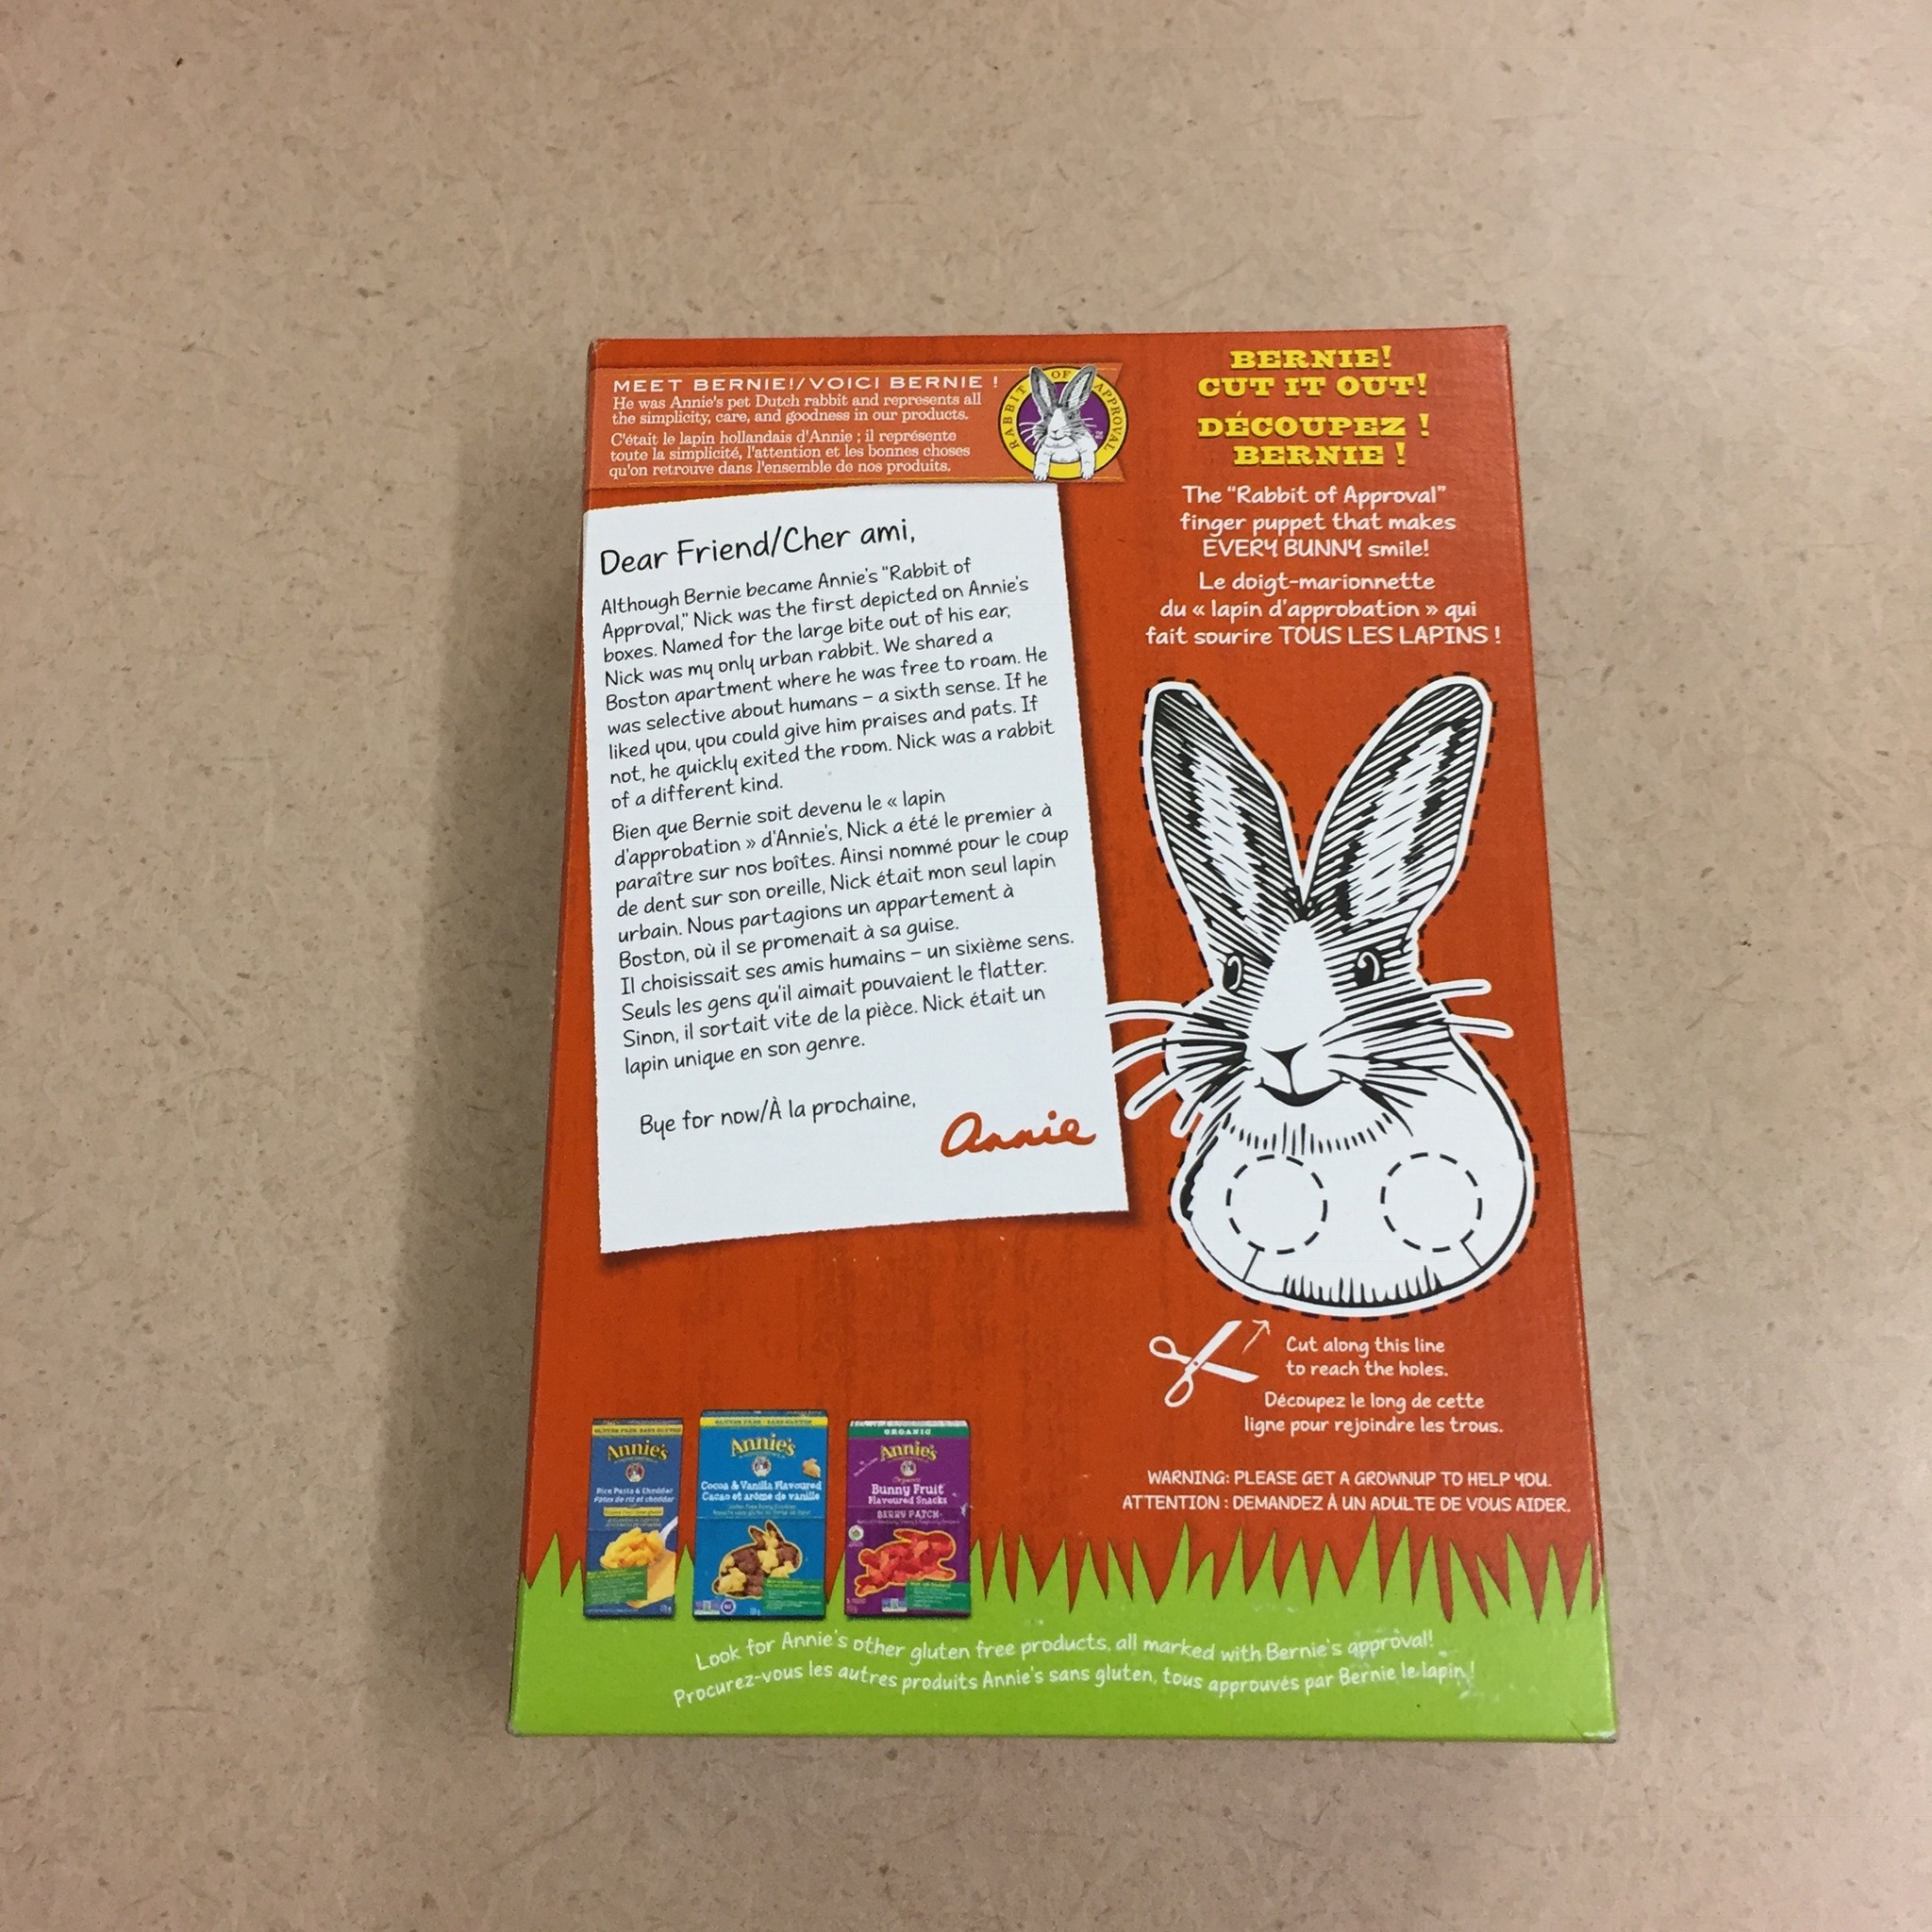annies_snickerdoodle_cinnamon_sugar: (501, 320, 1624, 1752)
